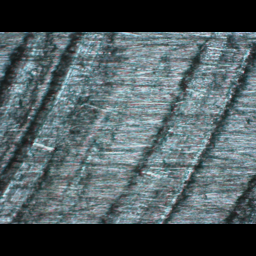d: (99, 32, 256, 221), (1, 33, 110, 223)
